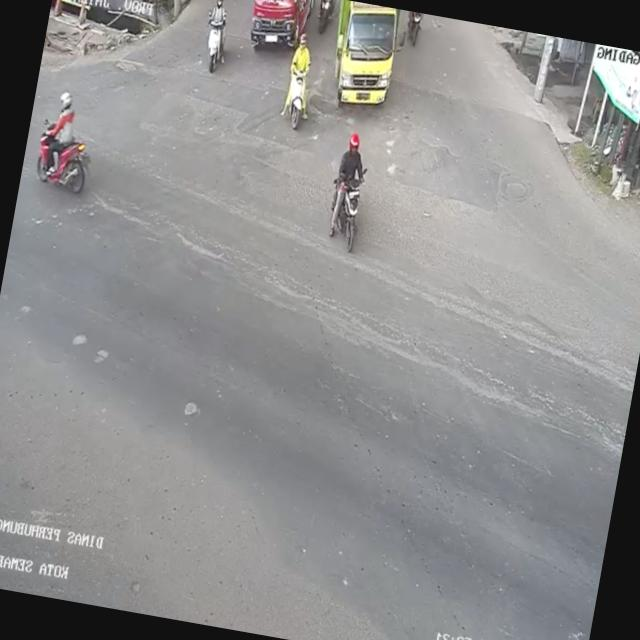motorcycle: (29, 129, 92, 202), (332, 183, 362, 250), (279, 65, 309, 131), (200, 16, 228, 76), (402, 11, 423, 48), (311, 0, 331, 31)
person: (332, 126, 375, 192), (47, 87, 84, 148), (288, 34, 314, 74), (207, 0, 230, 23)
rider_region: (28, 85, 105, 198), (318, 126, 384, 256), (276, 36, 319, 134), (193, 0, 241, 77)
